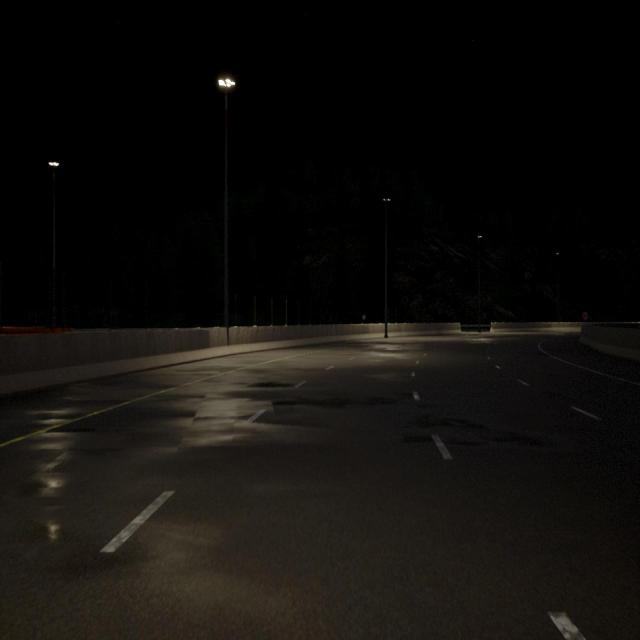Traffic_Signs: (583, 312, 588, 319), (362, 314, 366, 320)
